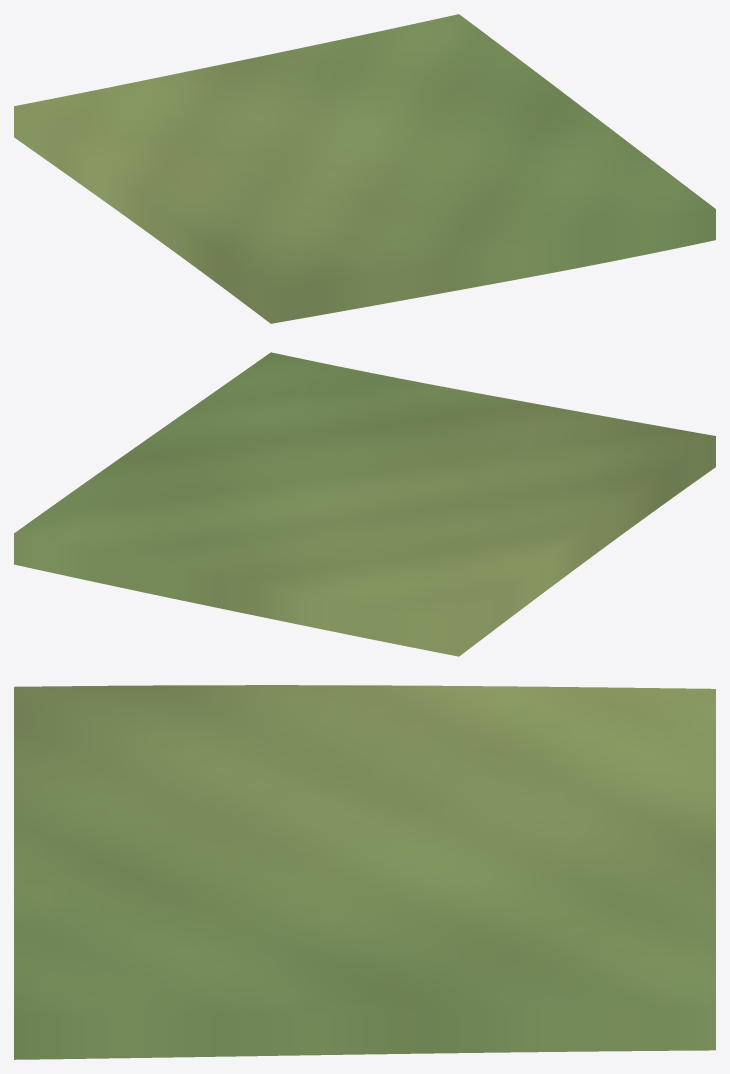
3 renders of one model, top to bottom at view 1: azimuth 30°, elevation 25°; view 2: azimuth 150°, elevation 25°; view 3: azimuth 270°, elevation 25°, orthographic. The views are drawn at different scales.
Visible parts, largest first — view 1: terrain; view 2: terrain; view 3: terrain.
Boxes of the visible parts, x1,y1,x2,y2 form: terrain: (14, 14, 715, 323); terrain: (14, 352, 715, 656); terrain: (14, 685, 715, 1059).
Bounding box in the file's own units: 30 × 3.68 × 30.
